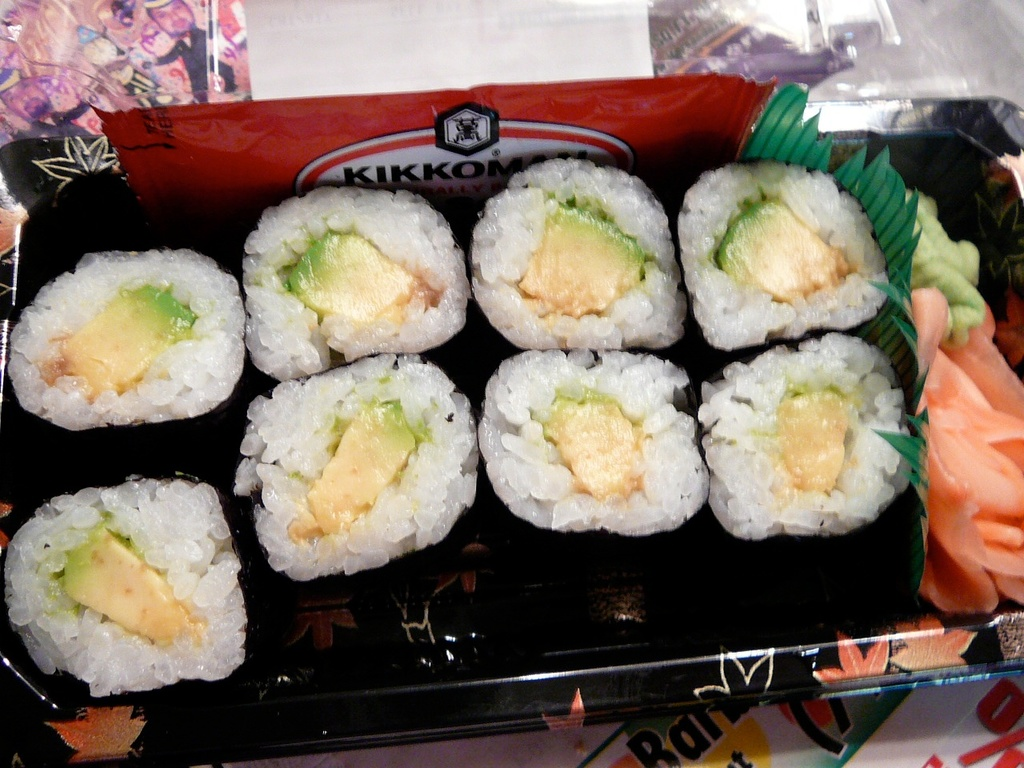sushi: (9, 152, 918, 702), (228, 359, 486, 594)
